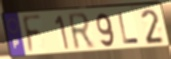1: (54, 14, 70, 52)
2: (140, 9, 166, 46)
9: (96, 12, 116, 49)
F: (21, 13, 43, 56)
L: (117, 12, 141, 46)
R: (66, 11, 97, 53)
